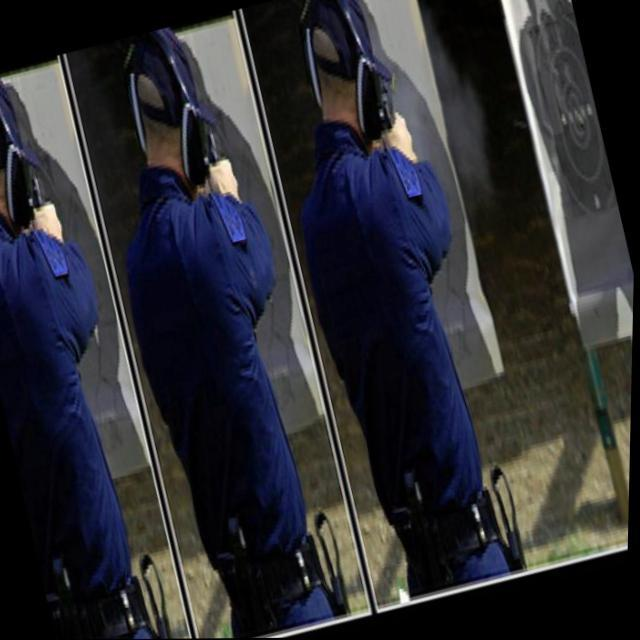weapon: (376, 92, 414, 141), (22, 172, 54, 221), (203, 130, 231, 180)
